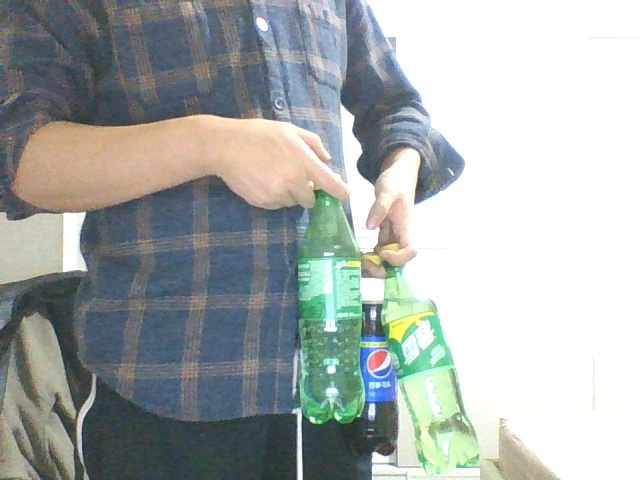Cola: (345, 254, 397, 455)
Sprite: (378, 243, 481, 475), (295, 179, 365, 426)
